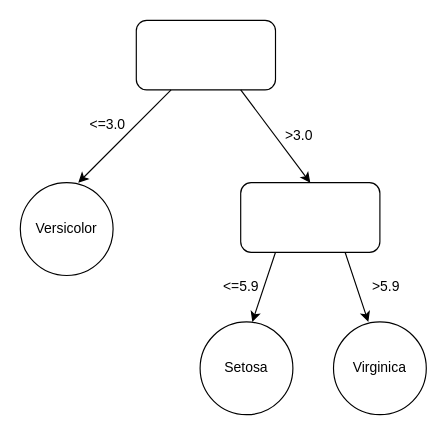
This 447x435 diagram has some shape labels left out. The centre of each missing label's shape, as x and y in pixels:
Sepal Length: (x=310, y=217)
Sepal Width: (x=205, y=54)
